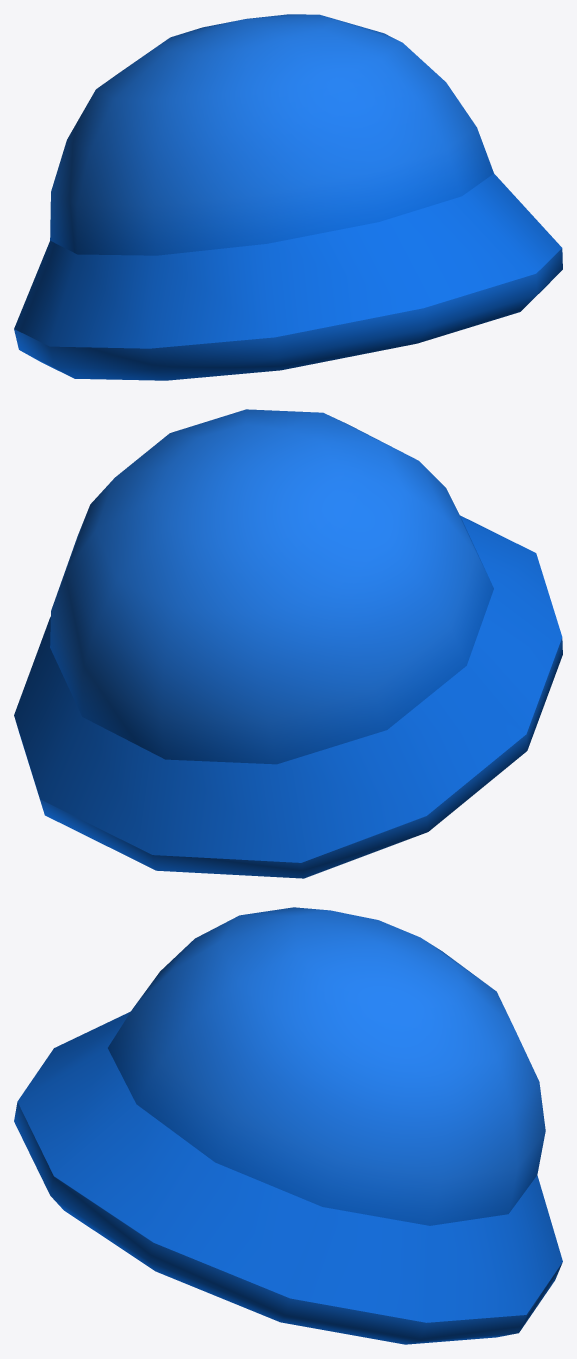
File: Headgear_10.fbx
3 renders of one model, top to bottom at view 1: azimuth 30°, elevation 25°; view 2: azimuth 150°, elevation 25°; view 3: azimuth 270°, elevation 25°, orthographic.
Visible parts, largest first — view 1: Headgear_10; view 2: Headgear_10; view 3: Headgear_10.
Boxes of the visible parts, x1,y1,x2,y2 form: Headgear_10: (14, 14, 562, 380); Headgear_10: (14, 409, 562, 878); Headgear_10: (14, 907, 562, 1344).
Size of the model in its own units: 98.17 by 69.71 by 97.41.
